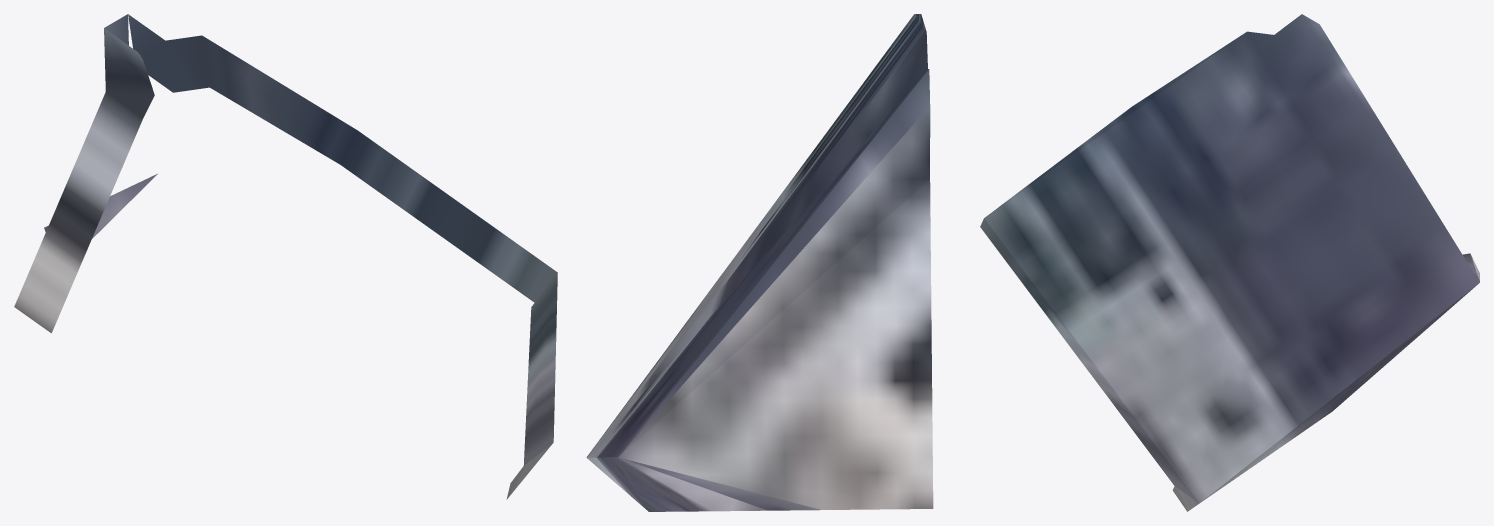
The picture shows the model from 3 angles, left to right: view 1: azimuth 30°, elevation 25°; view 2: azimuth 150°, elevation 25°; view 3: azimuth 270°, elevation 25°; orthographic projection. The views are drawn at different scales.
Size of the model in its own units: 9.49 by 10.98 by 12.92.
1 material, 1 textured.
